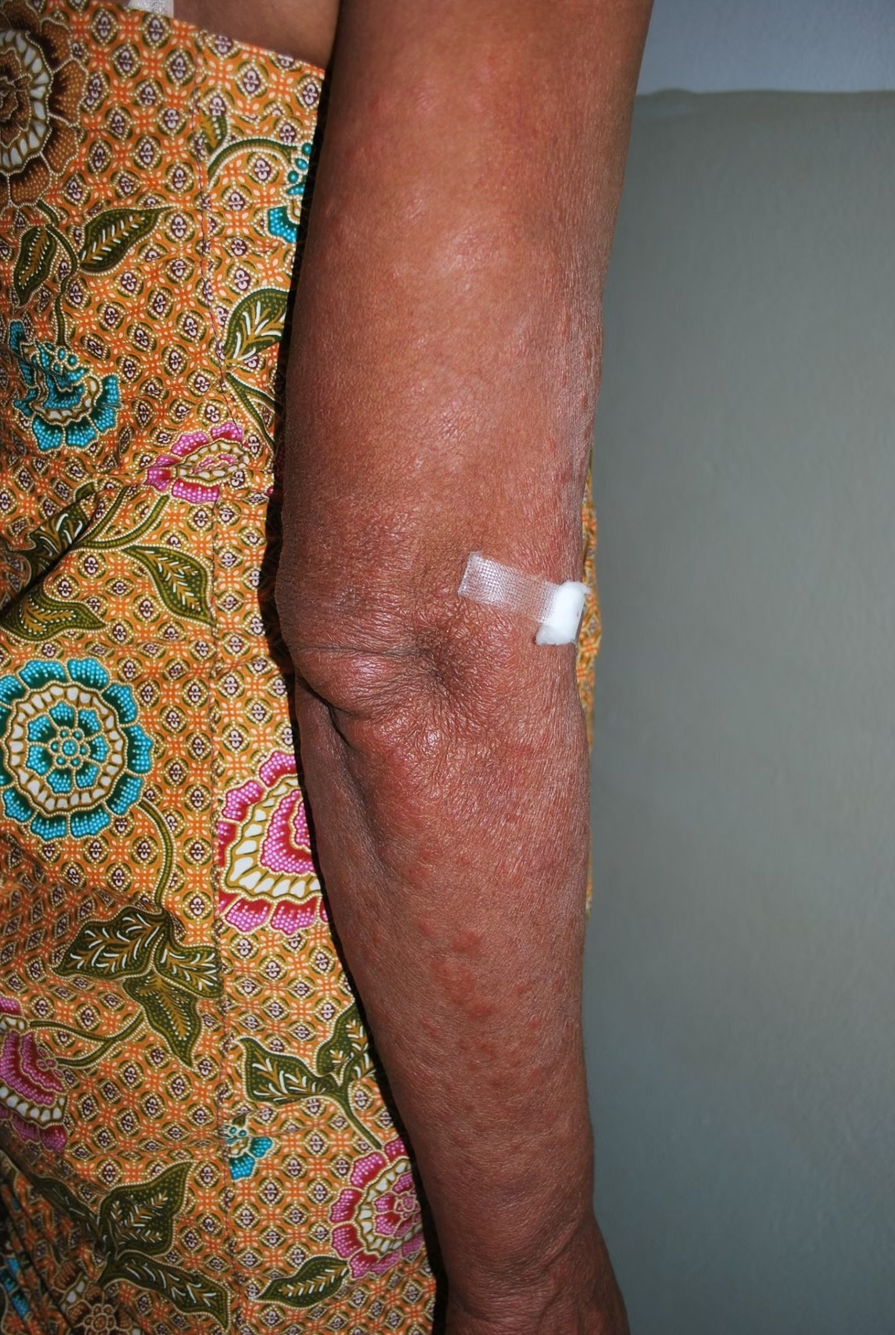Leprosy: (284, 441, 595, 1150)
